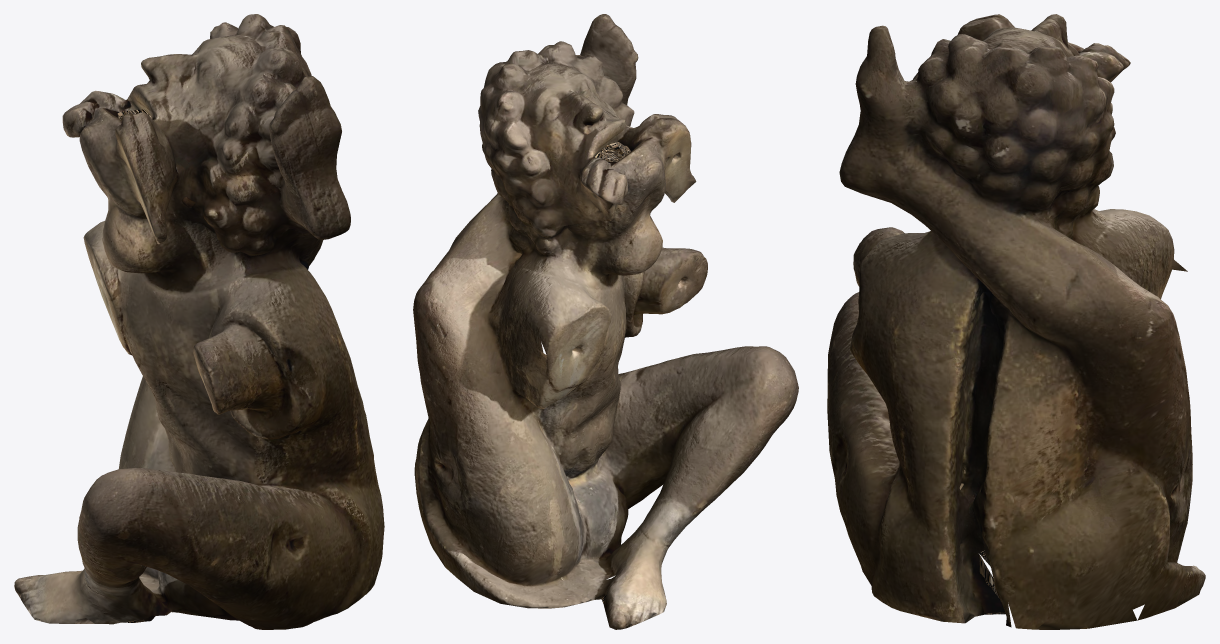
The model's file is 07_zanner.gltf.
3 renders of one model, left to right at view 1: azimuth 30°, elevation 25°; view 2: azimuth 150°, elevation 25°; view 3: azimuth 270°, elevation 25°, orthographic. The views are drawn at different scales.
Visible parts, largest first — view 1: Mesh_0; view 2: Mesh_0; view 3: Mesh_0.
Boxes of the visible parts, x1,y1,x2,y2 form: Mesh_0: (14,14,384,629); Mesh_0: (413,14,798,629); Mesh_0: (827,14,1205,629).
Bounding box in the file's own units: 1.95 × 3.2 × 1.85.
5 materials, 5 textured.
